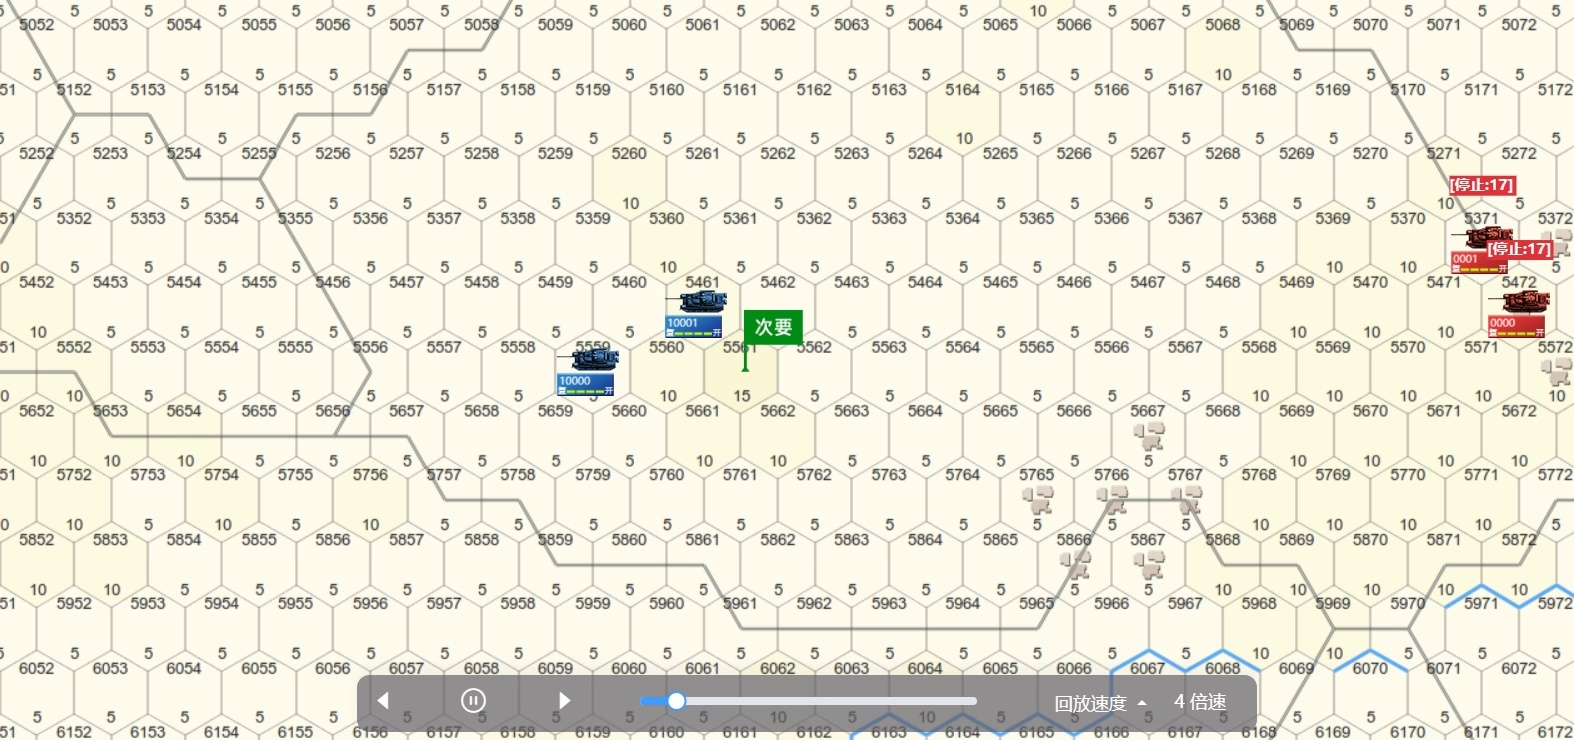blue_tank: (663, 281, 733, 344), (554, 349, 623, 407)
red_tank: (1453, 218, 1520, 276), (1494, 289, 1554, 349)
